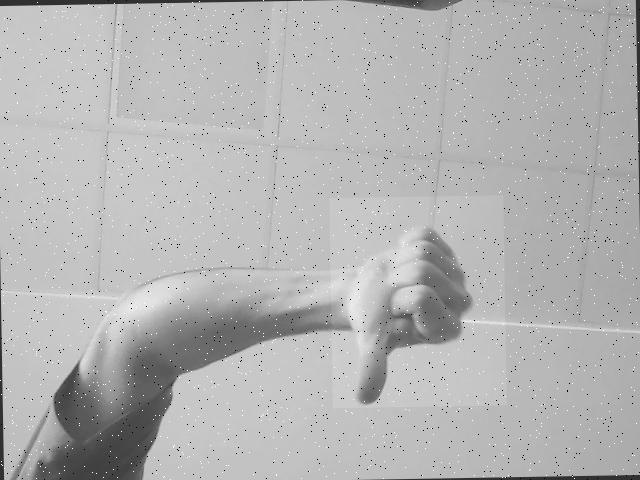bad: (329, 195, 507, 408)
